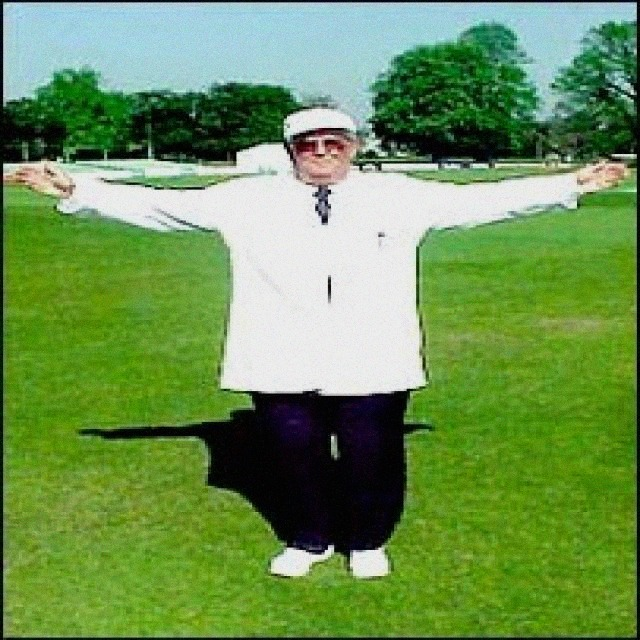Wide: (1, 94, 640, 586)
